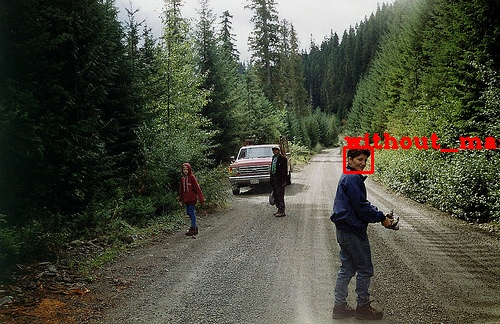without_mask: (346, 146, 371, 175), (180, 164, 193, 176), (271, 145, 282, 157)
